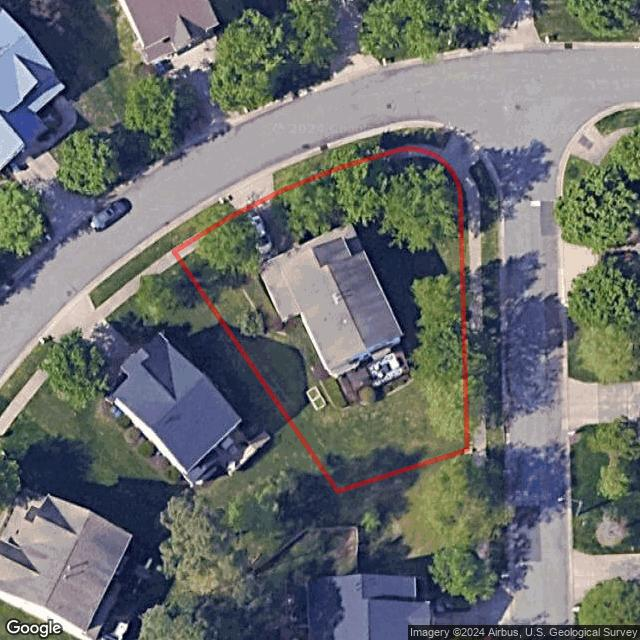Driveway: (239, 194, 305, 262)
Extra-Driveway: (225, 174, 275, 212)
Extra-Lawn: (275, 128, 453, 192), (470, 157, 504, 448), (164, 198, 236, 249), (462, 193, 475, 453)
Extra-Sidewalk: (406, 131, 488, 446)
House: (256, 222, 404, 379)
Lawn: (174, 147, 467, 490)
Other: (337, 349, 414, 405), (305, 386, 328, 413)
Sidewalk: (274, 148, 444, 205), (172, 211, 243, 260)
